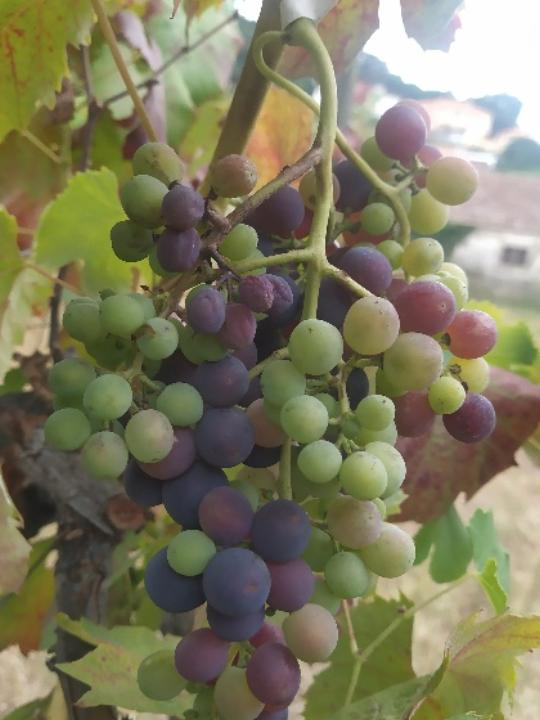grape: (36, 94, 502, 720)
